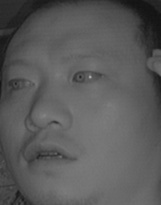eye: (70, 65, 103, 86), (6, 73, 38, 94)
mouth: (17, 135, 82, 176)
